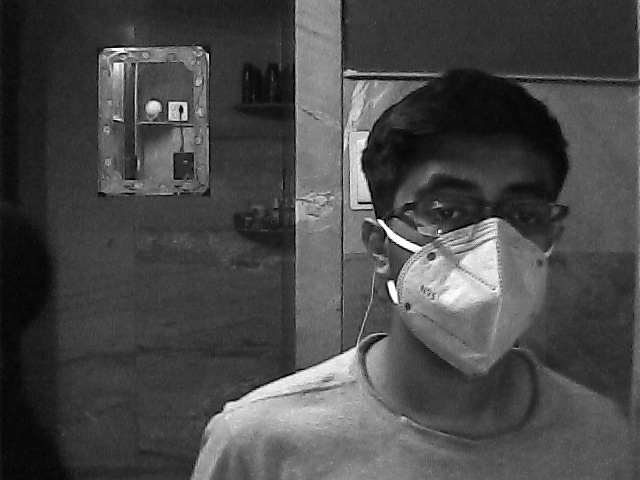mask: (392, 172, 553, 380)
